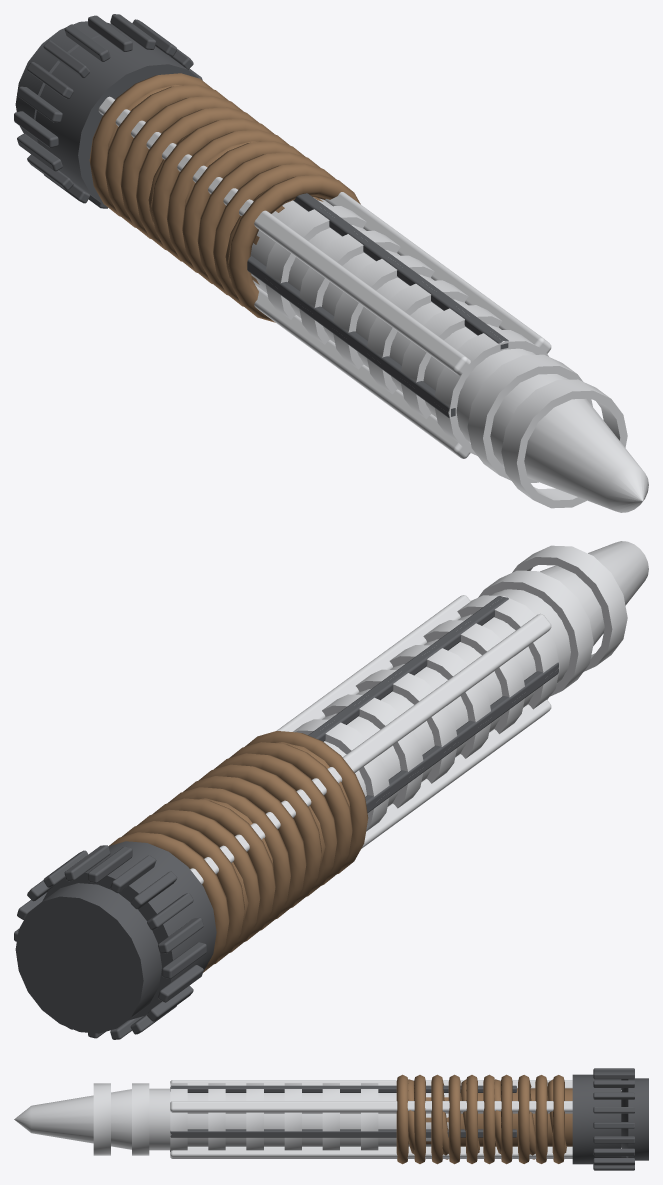
The model's file is mega-weapon-pack-throwing-spike-aa7e403d__33418.glb.
The picture shows the model from 3 angles, top to bottom: view 1: azimuth 30°, elevation 25°; view 2: azimuth 150°, elevation 25°; view 3: azimuth 270°, elevation 25°; orthographic projection. The views are drawn at different scales.
Visible parts, largest first — view 1: throwing-spike; view 2: throwing-spike; view 3: throwing-spike.
Boxes of the visible parts, left/top/right/bottom form: throwing-spike: left=14, top=14, right=648, bottom=512; throwing-spike: left=14, top=541, right=648, bottom=1039; throwing-spike: left=14, top=1068, right=648, bottom=1170.
Size of the model in its own units: 0.0296 by 0.0296 by 0.183.
